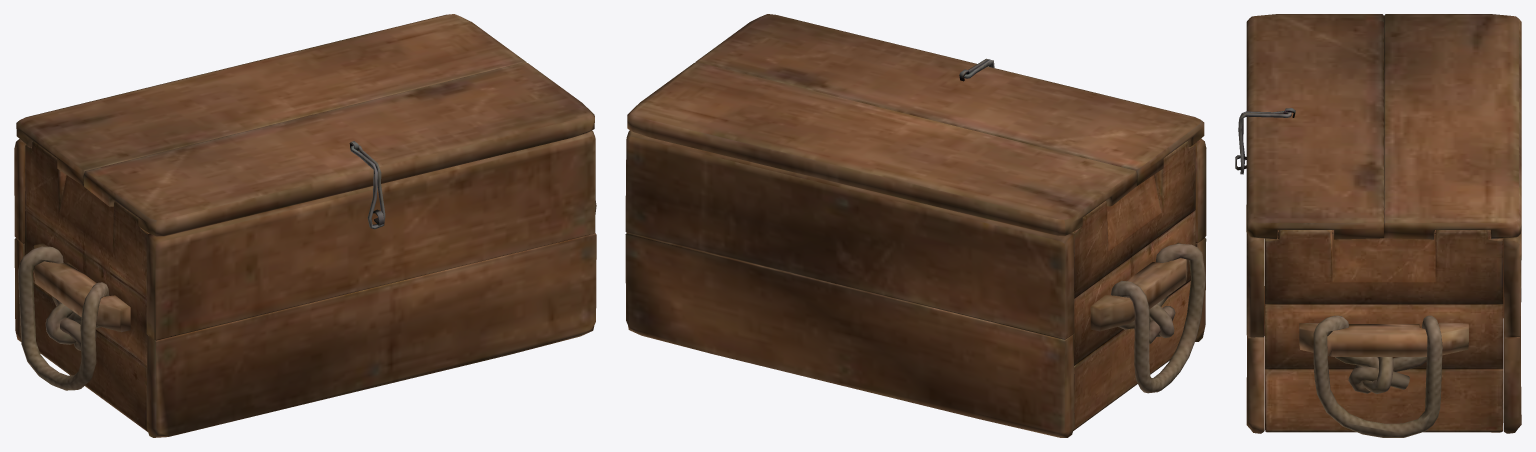
Rendered from wooden_crate_01.glb.
3 views of the same model, side by side, from view 1: azimuth 30°, elevation 25°; view 2: azimuth 150°, elevation 25°; view 3: azimuth 270°, elevation 25° (orthographic). The views are drawn at different scales.
Parts seen in each view (by area): view 1: wooden_crate_01_lid; view 2: wooden_crate_01_lid; view 3: wooden_crate_01_lid.
Boxes of the visible parts, x1=… form: wooden_crate_01_lid: x1=14, y1=14, x2=596, y2=437; wooden_crate_01_lid: x1=625, y1=14, x2=1206, y2=437; wooden_crate_01_lid: x1=1235, y1=14, x2=1521, y2=437.
Bounding box in the file's own units: 0.8245 × 0.3485 × 0.4072.
Materials: 1 (1 with a texture image).
